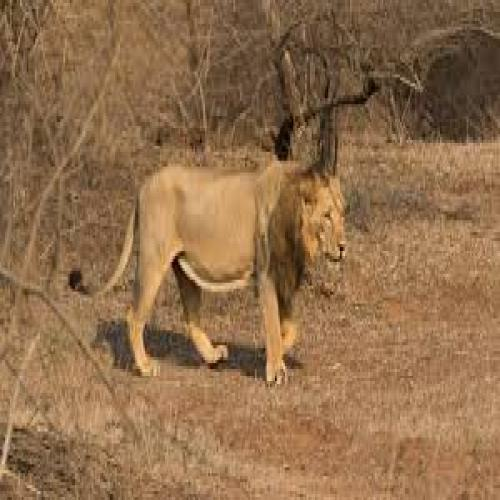lion-endangered: (71, 158, 348, 378)
